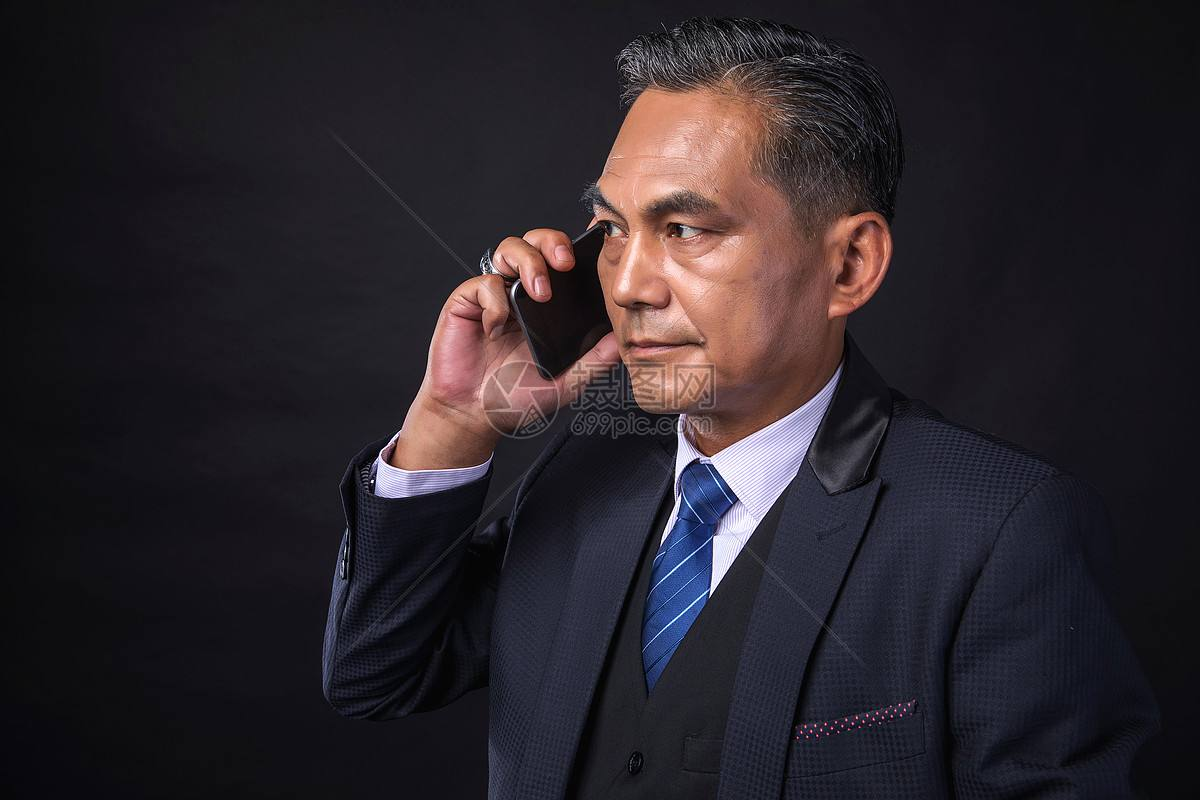calling: (405, 203, 632, 440)
